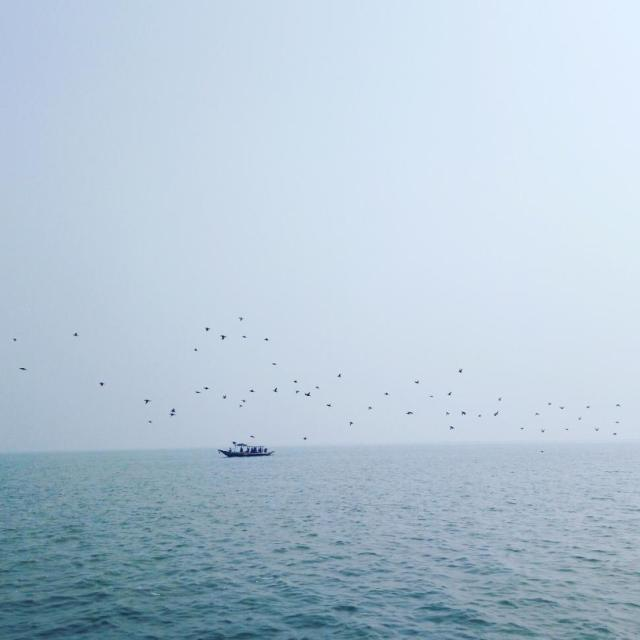fishing boat: (210, 432, 276, 463)
